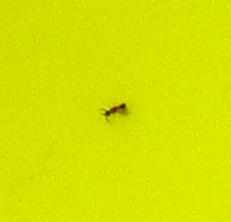Hymenoptera: (100, 100, 131, 122)
